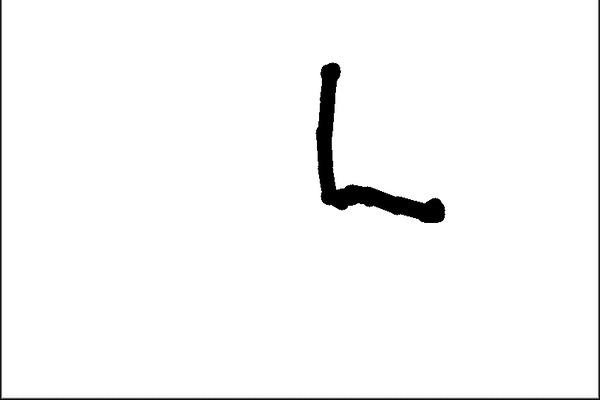L: (310, 57, 451, 229)
